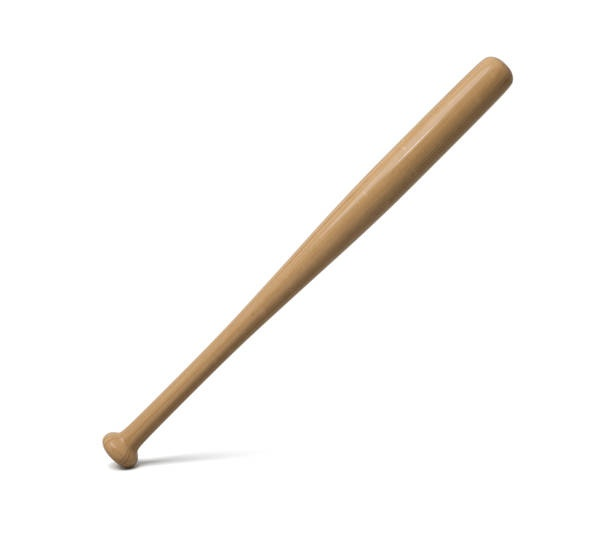bita: (97, 55, 510, 472)
